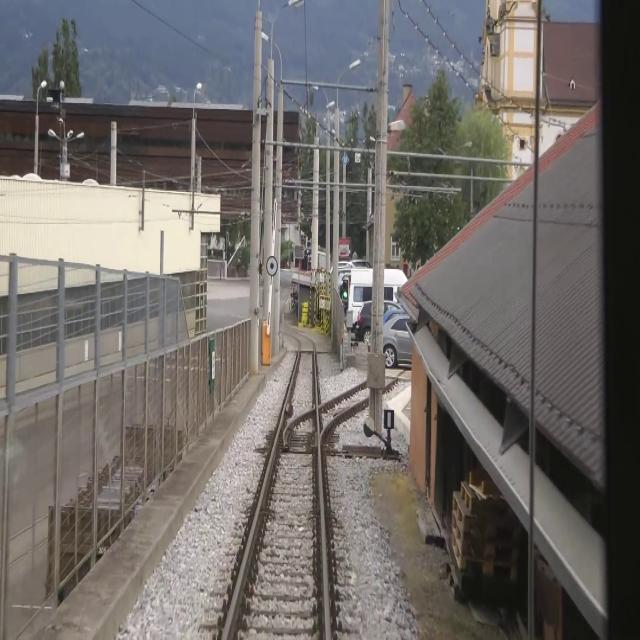rail-track: (227, 334, 325, 639), (319, 379, 369, 428), (382, 369, 400, 383)
